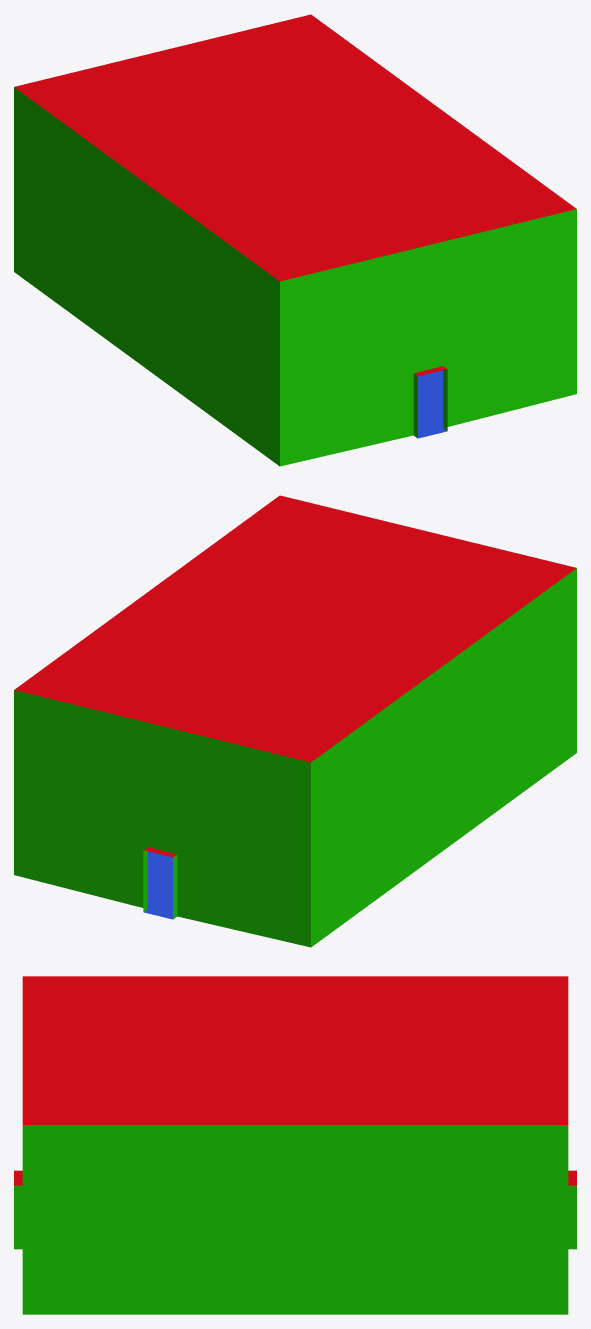
File: 5x8_Room__Tall.fbx
The picture shows the model from 3 angles, top to bottom: view 1: azimuth 30°, elevation 25°; view 2: azimuth 150°, elevation 25°; view 3: azimuth 270°, elevation 25°; orthographic projection. The views are drawn at different scales.
Parts seen in each view (by area): view 1: 5x8 Room Tall; view 2: 5x8 Room Tall; view 3: 5x8 Room Tall.
Part boxes in pixels (x1,y1,x2,y2): 5x8 Room Tall: [14, 14, 576, 466]; 5x8 Room Tall: [14, 495, 576, 947]; 5x8 Room Tall: [14, 976, 576, 1314].
Size of the model in its own units: 4000 by 2400 by 6400.
